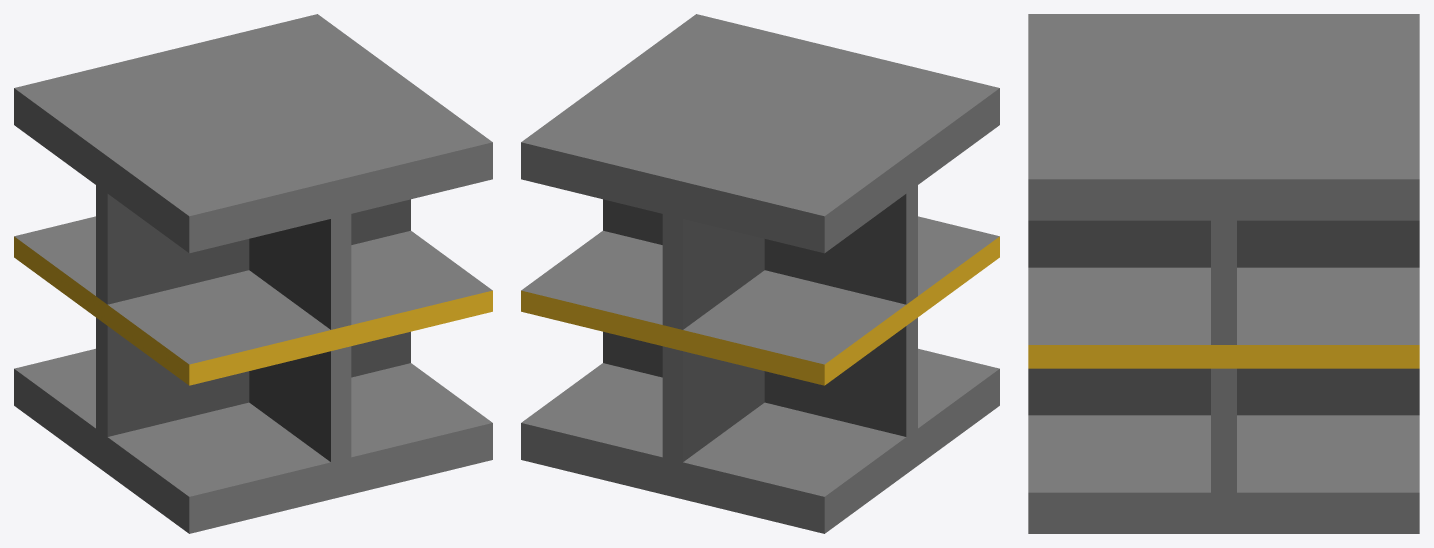
File: Floor2.glb
3 views of the same model, side by side, from view 1: azimuth 30°, elevation 25°; view 2: azimuth 150°, elevation 25°; view 3: azimuth 270°, elevation 25° (orthographic). The views are drawn at different scales.
Visible parts, largest first — view 1: Cube; view 2: Cube; view 3: Cube.
Boxes of the visible parts, x1,y1,x2,y2 form: Cube: (14, 14, 492, 533); Cube: (521, 14, 999, 533); Cube: (1028, 14, 1419, 533).
Bounding box in the file's own units: 16 × 16 × 16.
1 material, 1 textured.
